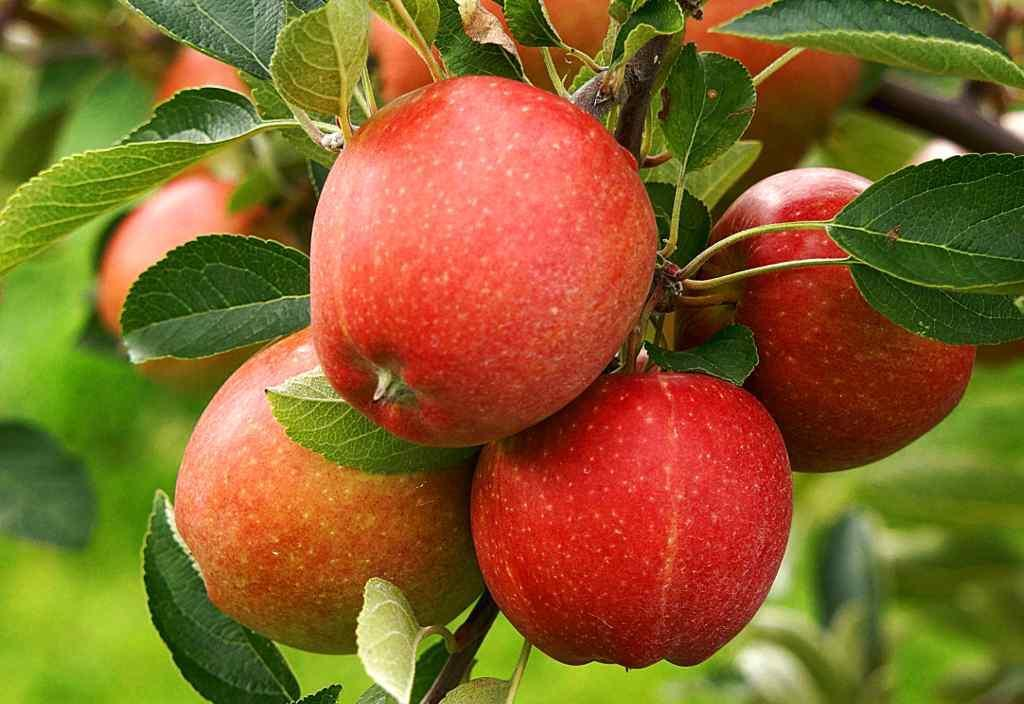apple: (305, 73, 655, 446), (173, 334, 482, 647), (491, 381, 820, 670), (682, 166, 975, 472)
